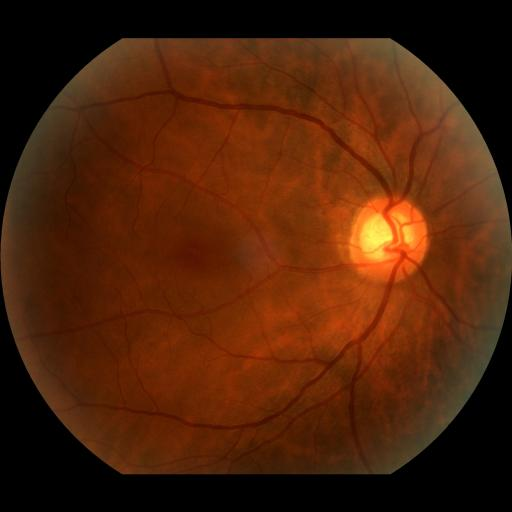Optic Cup: (360, 212, 413, 259)
Optic Disc: (349, 197, 430, 283)
